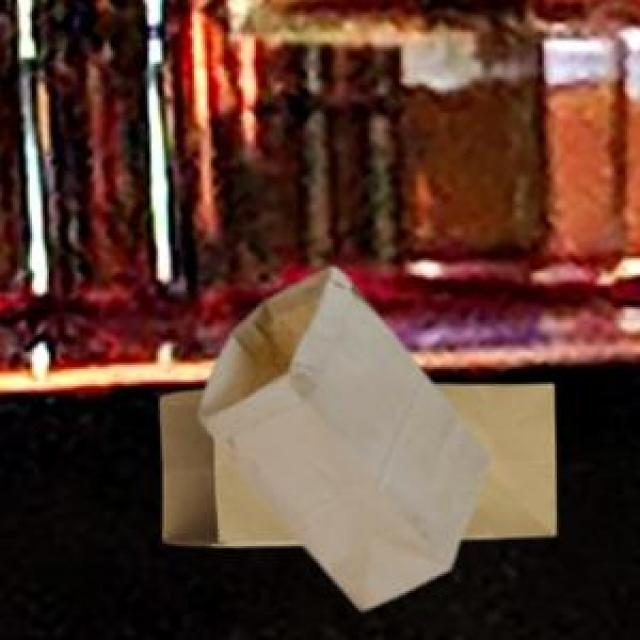Paper -Biodegradable-: (201, 267, 493, 611), (161, 383, 559, 546)
